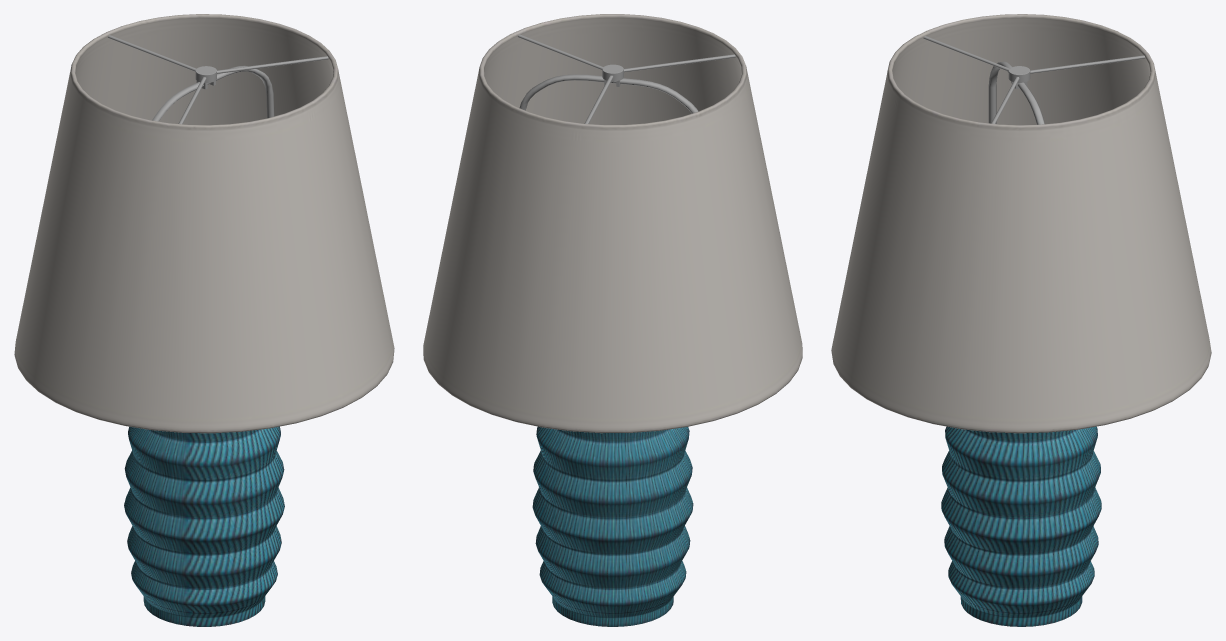
3 renders of one model, left to right at view 1: azimuth 30°, elevation 25°; view 2: azimuth 150°, elevation 25°; view 3: azimuth 270°, elevation 25°, orthographic.
Parts seen in each view (by area): view 1: RootNode; view 2: RootNode; view 3: RootNode.
Part boxes in pixels (left/top/right/bottom): RootNode: left=14, top=14, right=394, bottom=626; RootNode: left=423, top=14, right=802, bottom=626; RootNode: left=831, top=14, right=1211, bottom=626.
Bounding box in the file's own units: 0.2542 × 0.3922 × 0.2542.
Materials: 1 (1 with a texture image).
